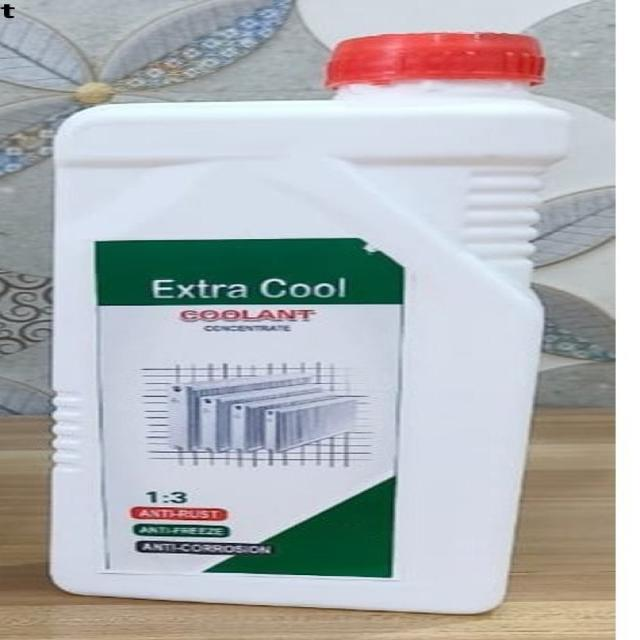coolant: (48, 32, 586, 619)
